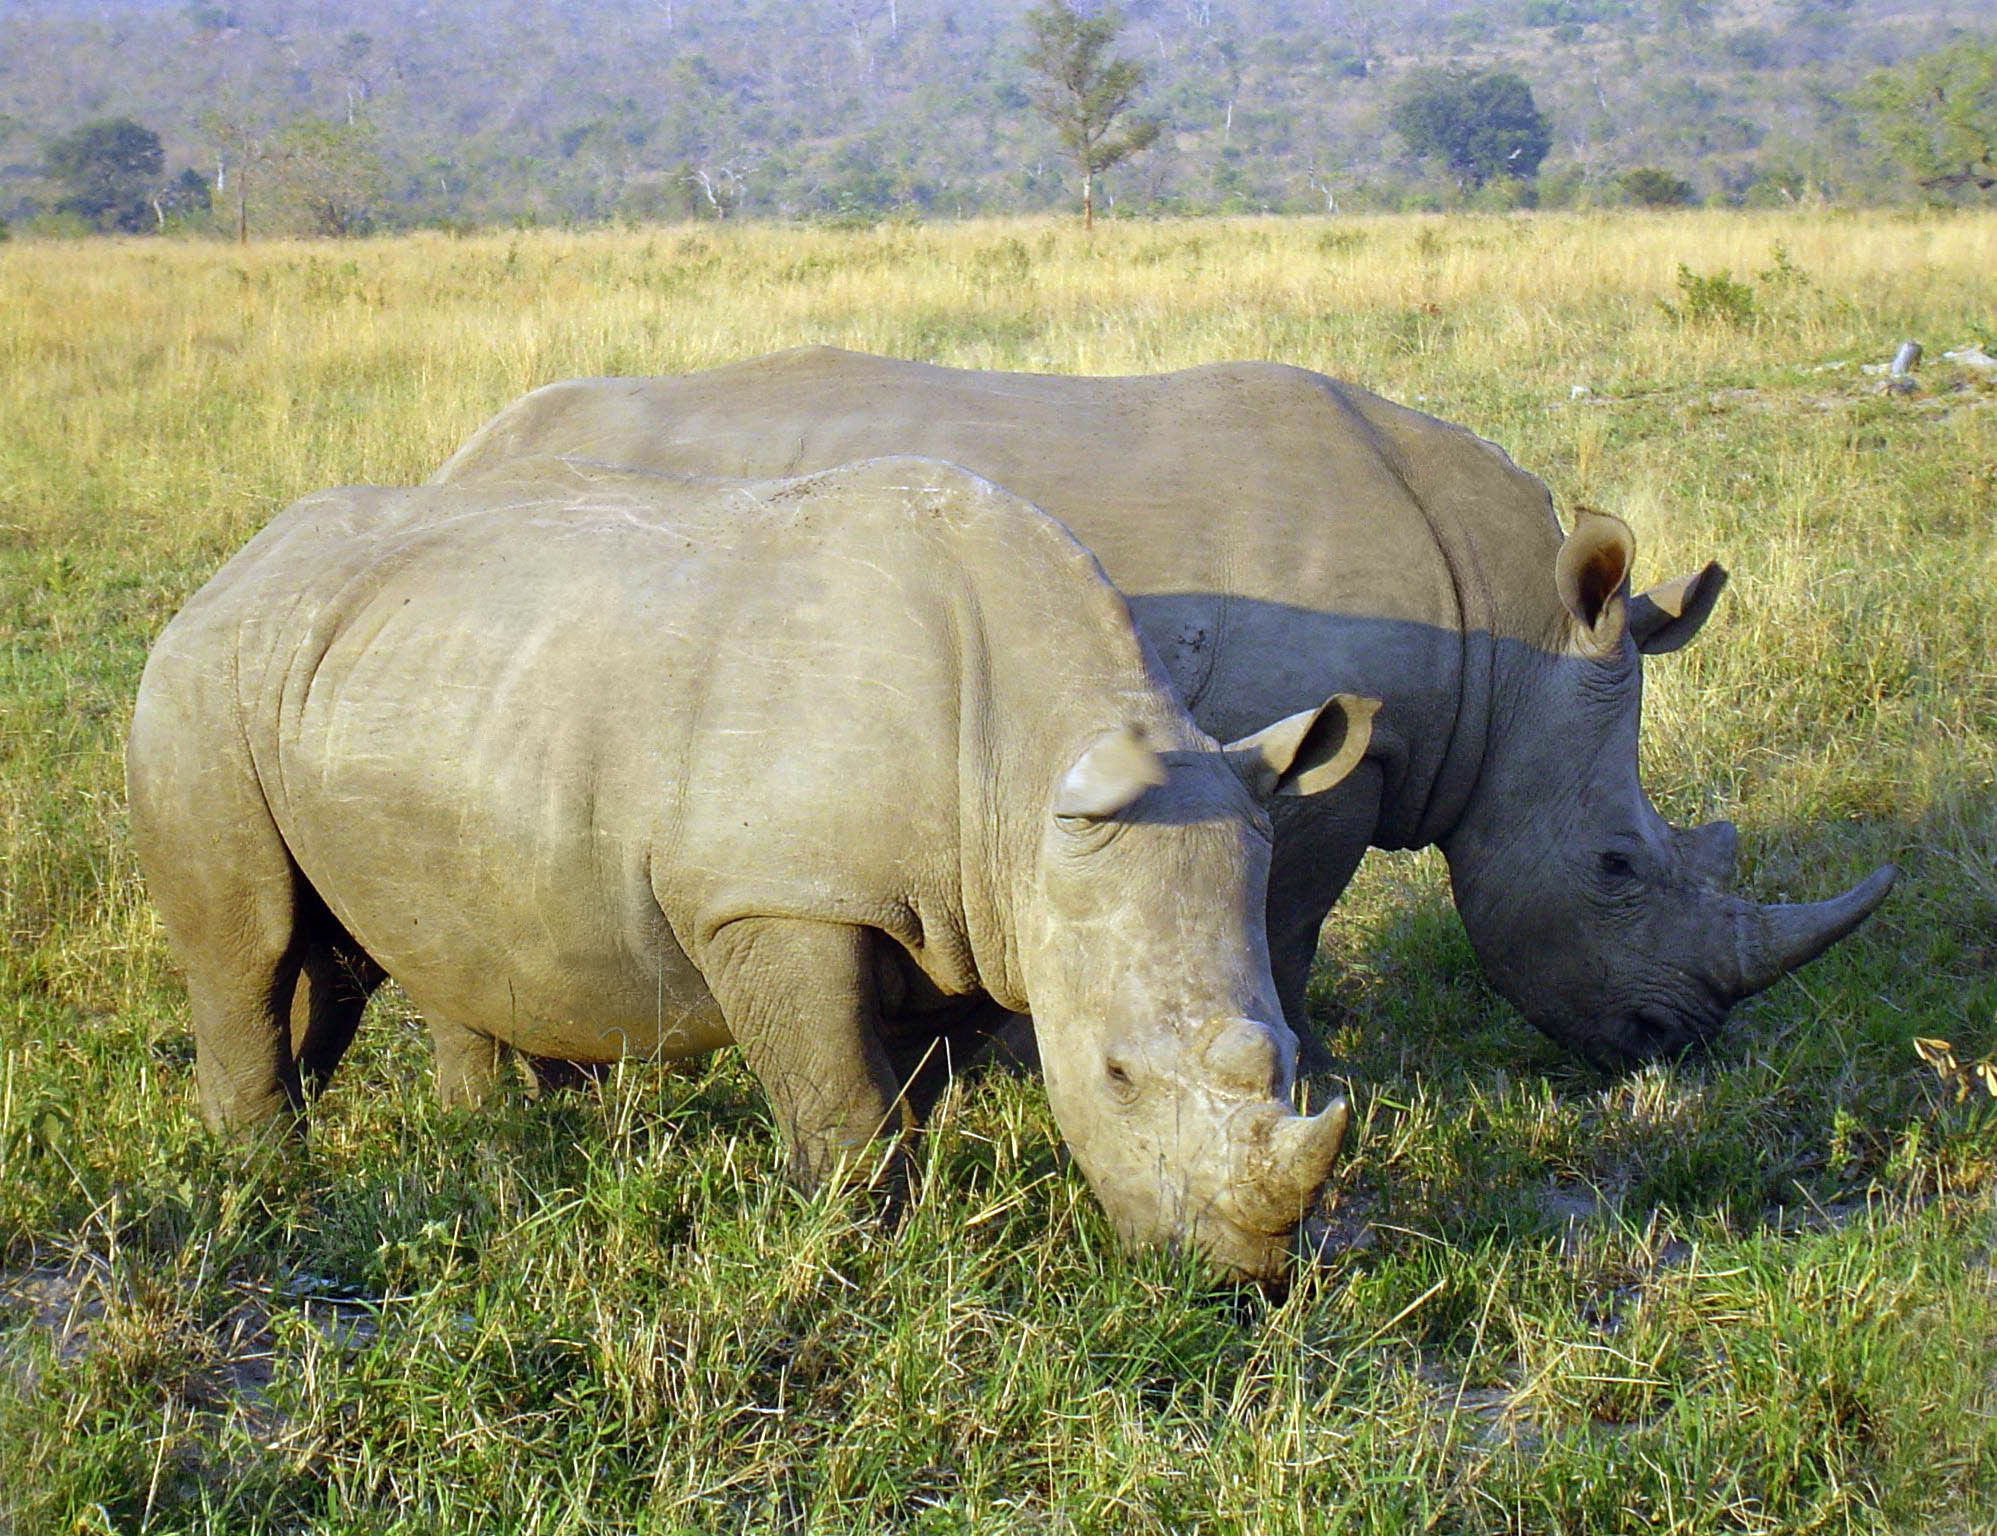Rhinoceros: (92, 323, 1937, 1309)
